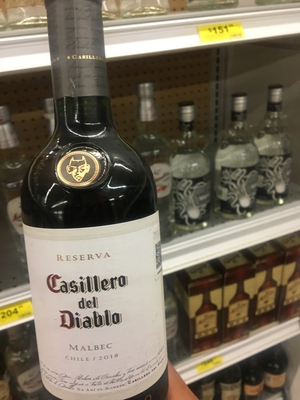casillero del diablo malbec: (22, 12, 170, 400)
